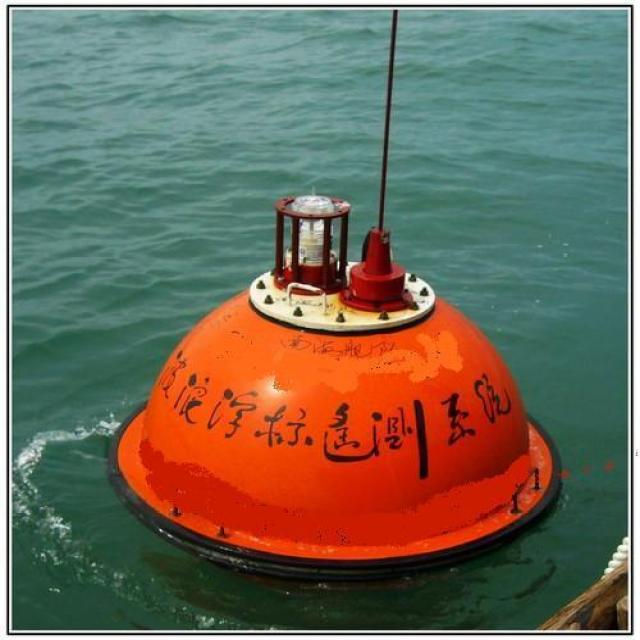buoy: (110, 147, 564, 577)
